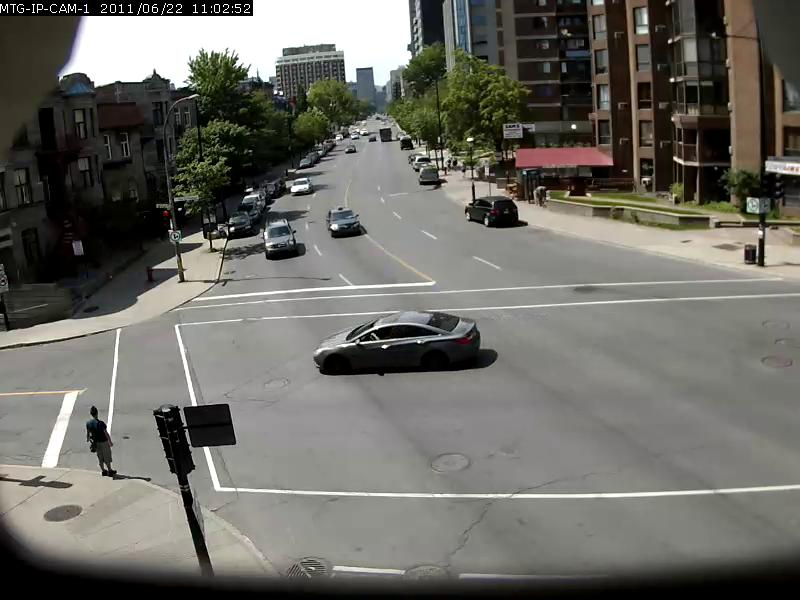Car: (263, 219, 298, 255), (326, 205, 361, 237), (226, 210, 252, 235), (291, 178, 312, 196), (344, 143, 356, 154)
